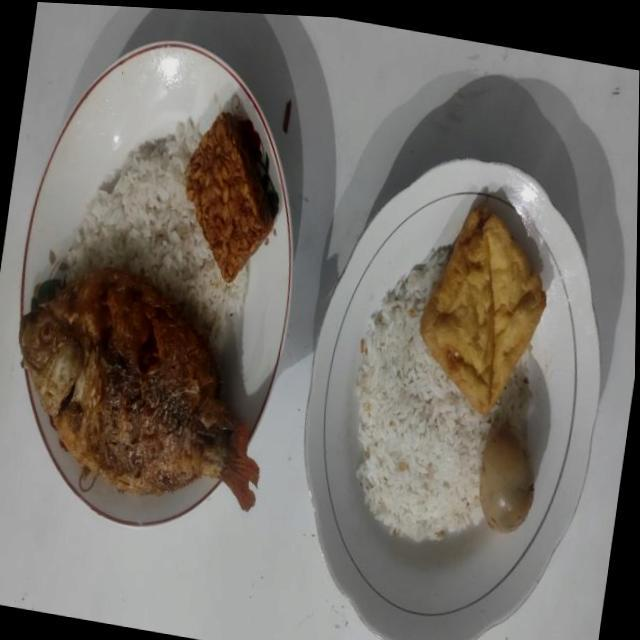ikan_mujair: (20, 268, 258, 511)
nasi_putih: (354, 246, 530, 542), (62, 121, 249, 352)
tahu_goreng: (420, 206, 546, 415)
tempe_goreng: (185, 112, 272, 282)
